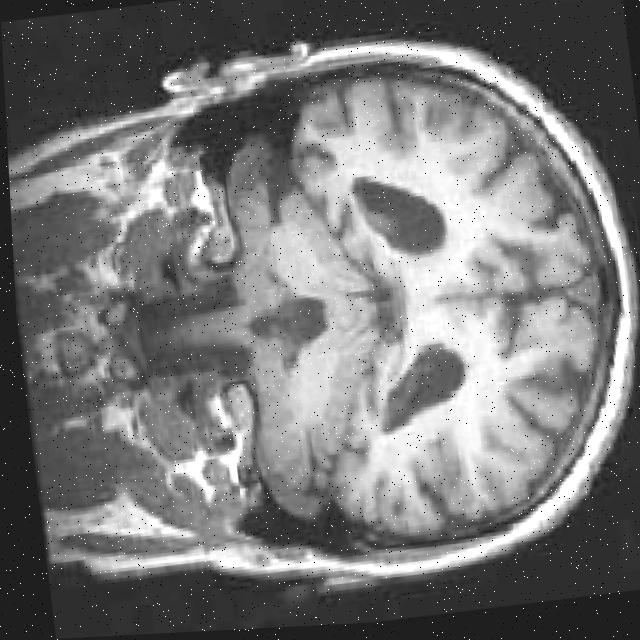NoTumor: (203, 4, 640, 594)
